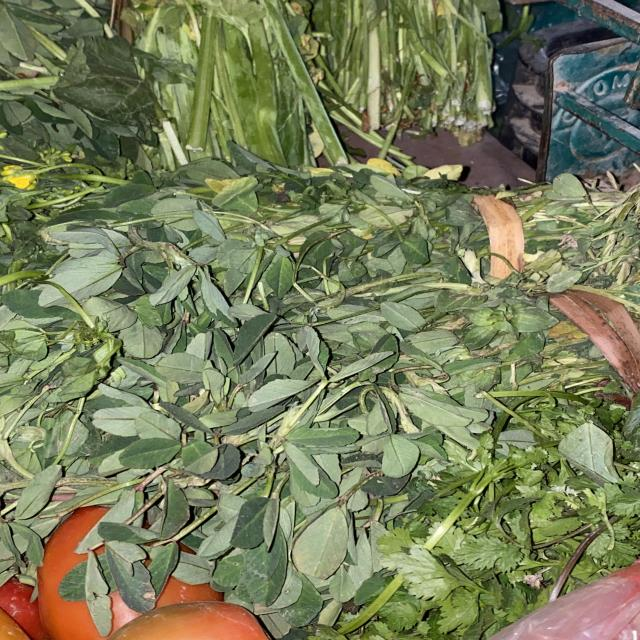paper: (197, 2, 310, 155), (36, 202, 155, 311), (542, 275, 640, 401), (447, 521, 612, 591), (72, 382, 205, 449), (303, 495, 374, 579), (569, 408, 627, 485)
